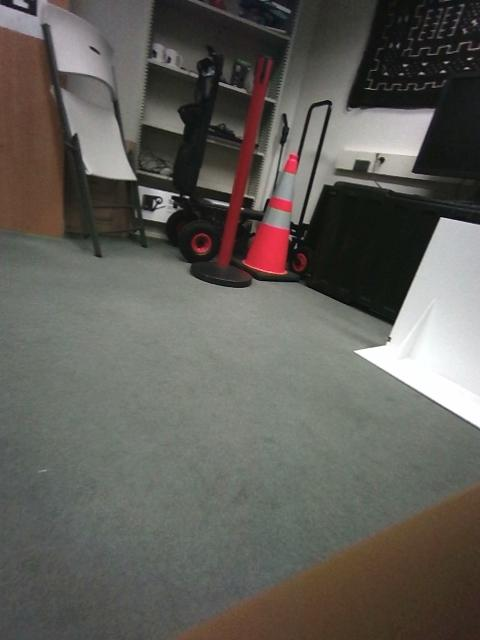block: (260, 292, 305, 329)
